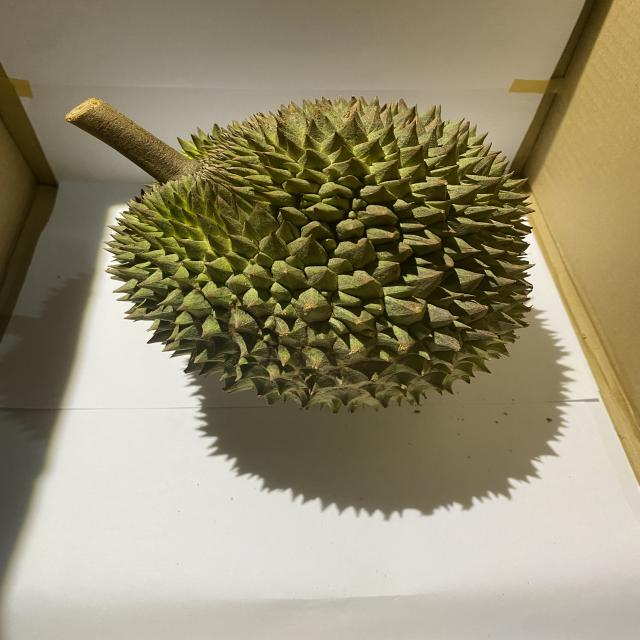immature: (101, 92, 548, 418)
